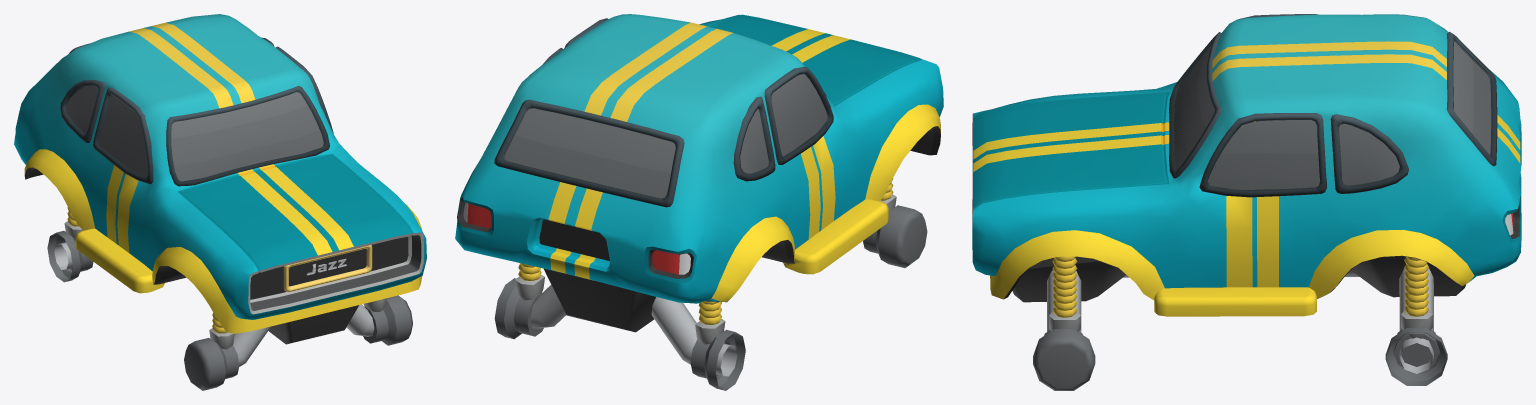
File: Car_14.fbx
The picture shows the model from 3 angles, left to right: view 1: azimuth 30°, elevation 25°; view 2: azimuth 150°, elevation 25°; view 3: azimuth 270°, elevation 25°; orthographic projection. The views are drawn at different scales.
Parts seen in each view (by area): view 1: Car_14; view 2: Car_14; view 3: Car_14.
Part boxes in pixels (box(x1,y1,x2,y2)): Car_14: box(14, 14, 426, 390); Car_14: box(455, 14, 943, 390); Car_14: box(972, 14, 1521, 390).
Bounding box in the file's own units: 209 × 332 × 187.
